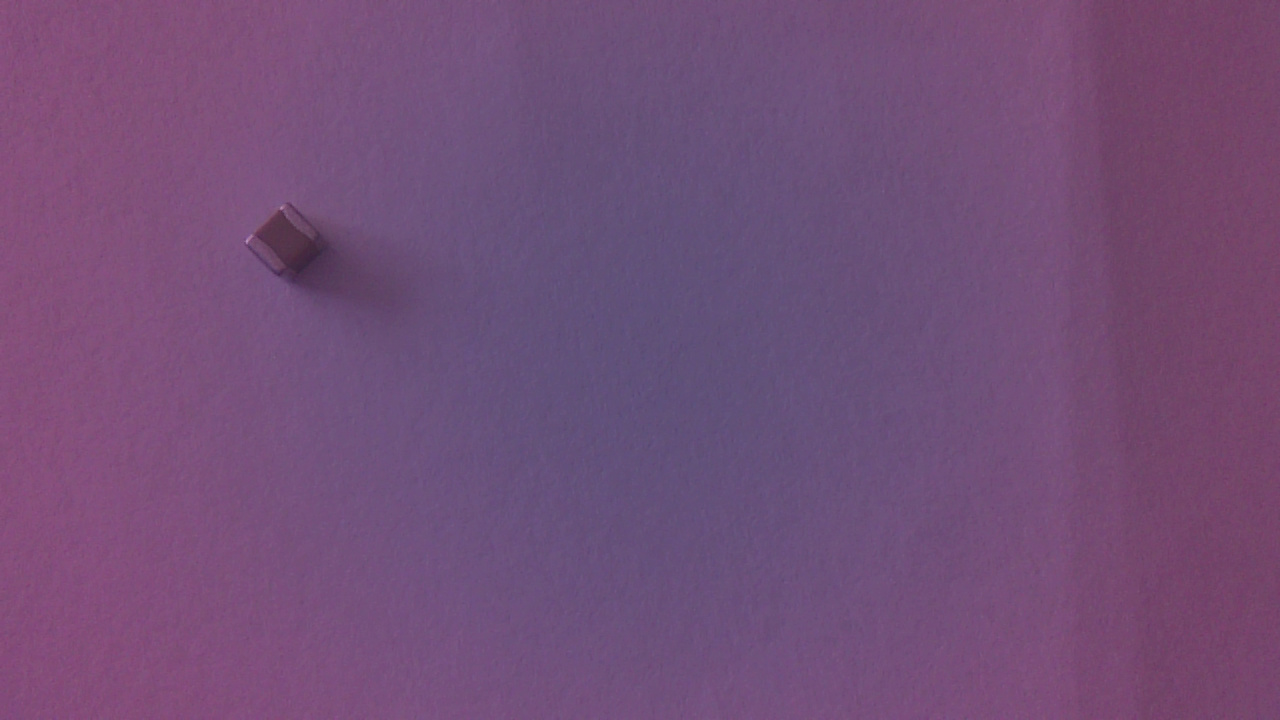Condensator: (245, 202, 342, 290)
